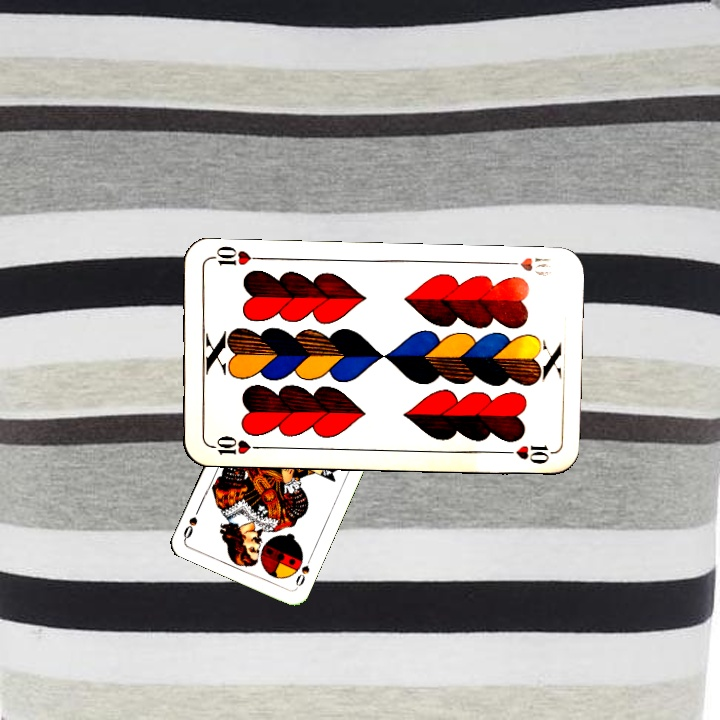H10: (204, 432, 263, 458), (499, 253, 552, 274)
SO: (292, 553, 314, 591)
